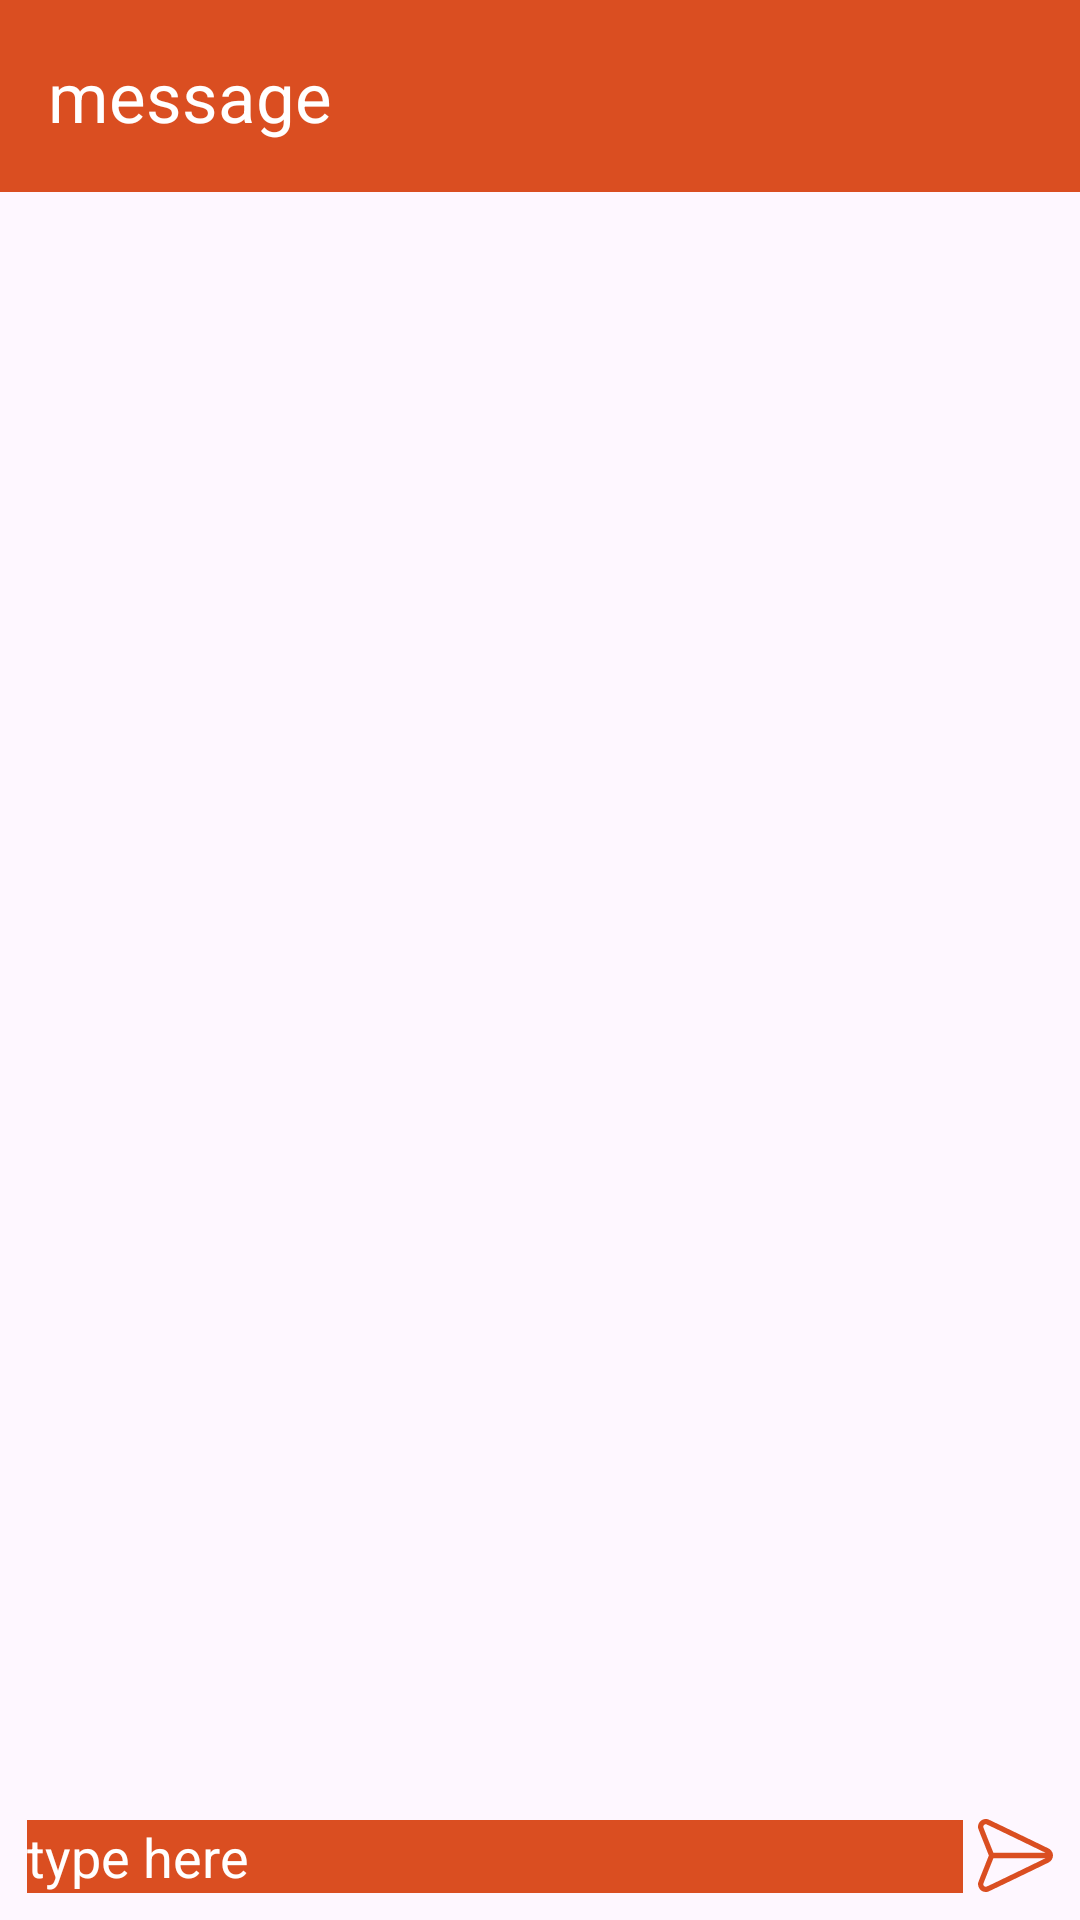

Named icons in this screenshot (1080px×1920px) and their bounding boxes, (x1, y1, x2, y2):
send: (978, 1819, 1053, 1892)
